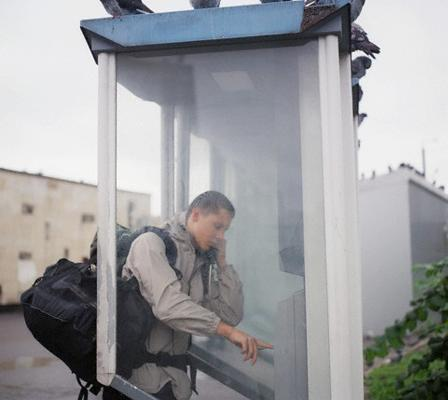person: (121, 192, 274, 400)
